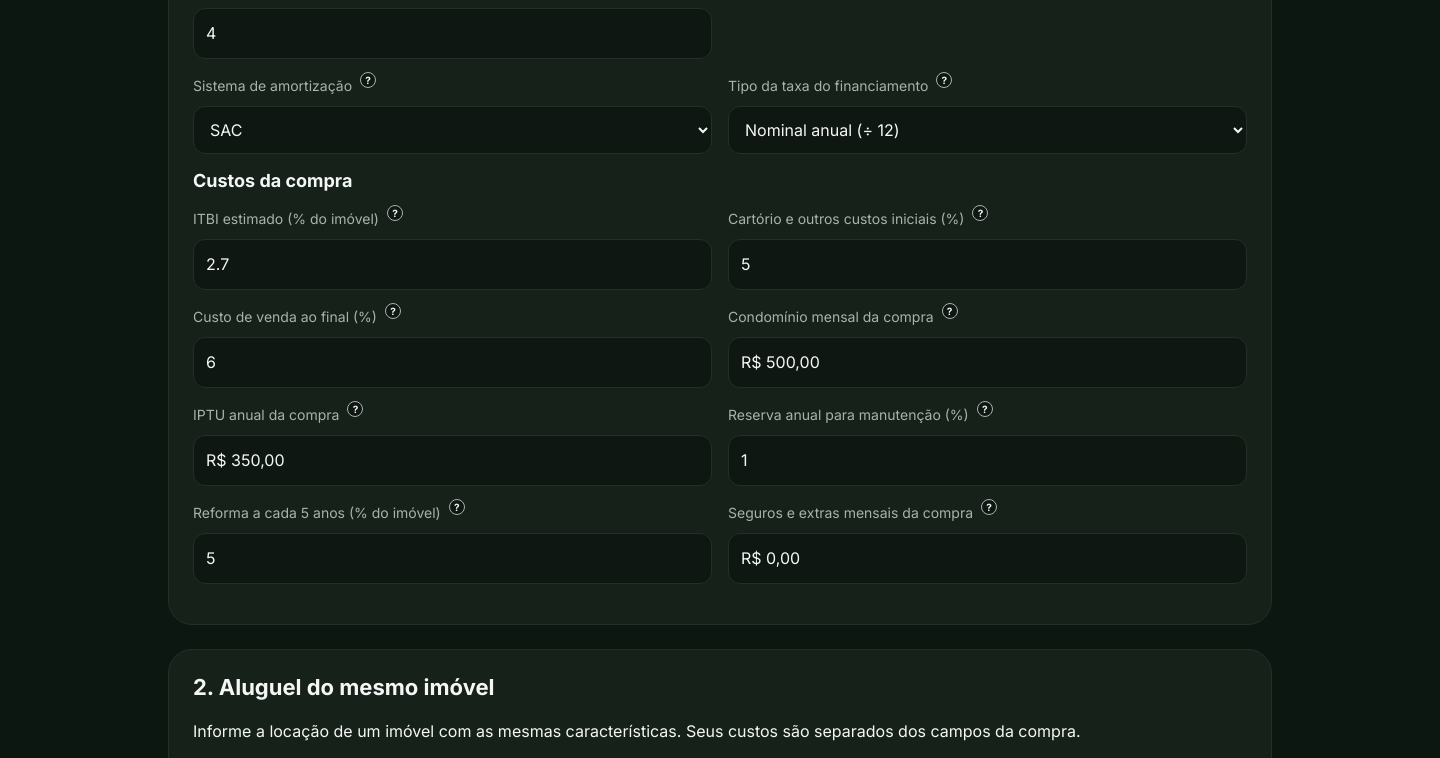
Test: BuyOrRent › keeps costs separated and changes rental IPTU responsibility
(page scrolled)
Check: the field labelled "IPTU anual da compra" is shown, box [193,434,712,486]
Check: the field labelled "Entrada" is not shown
Replace the text in the field labelled "Condomínio mensal da compra" with "90000" at x=988, y=362, box [728,336,1247,388]
(page scrolled)
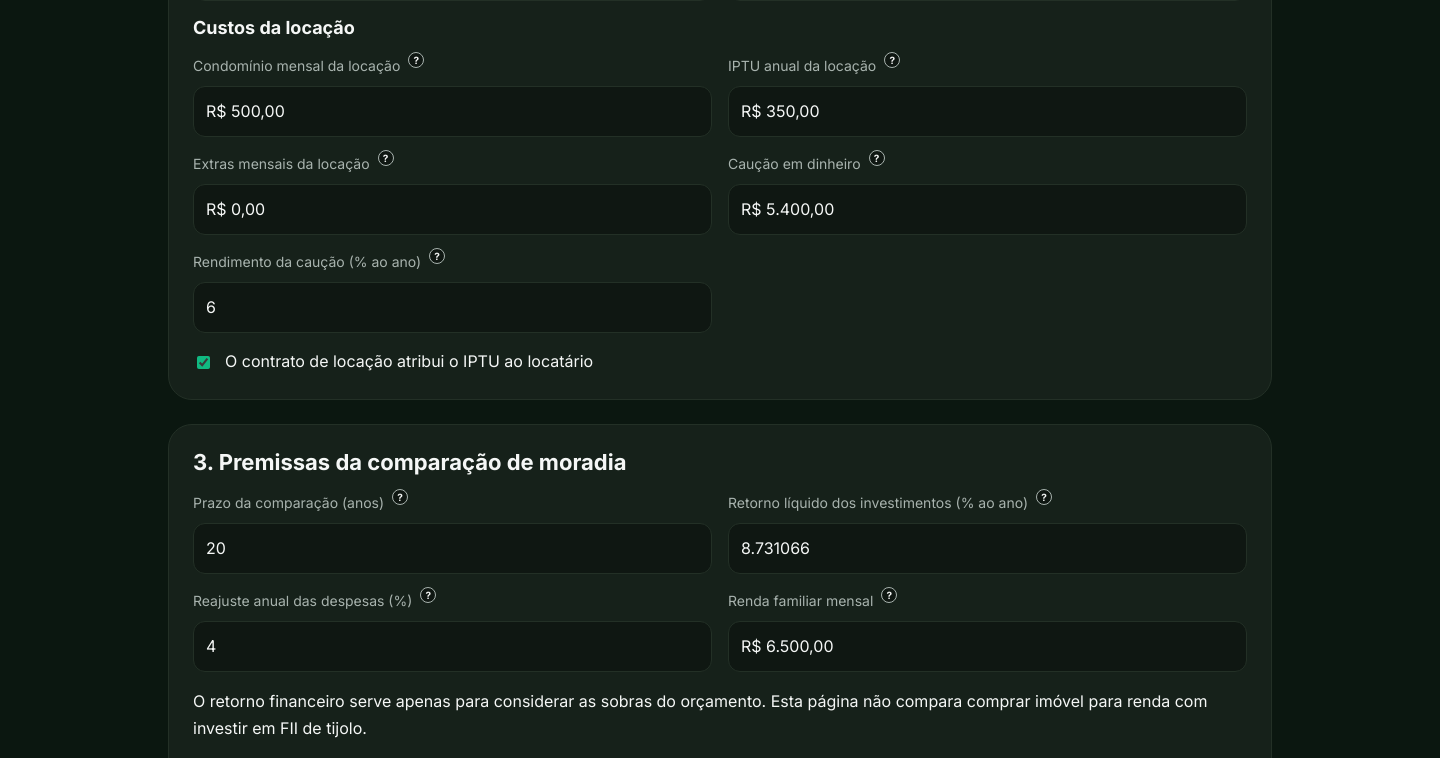
Click the checkbox labelled "O contrato de locação atribui o IPTU ao locatário".
click(204, 362)  # box [197,356,210,368]
(page scrolled)
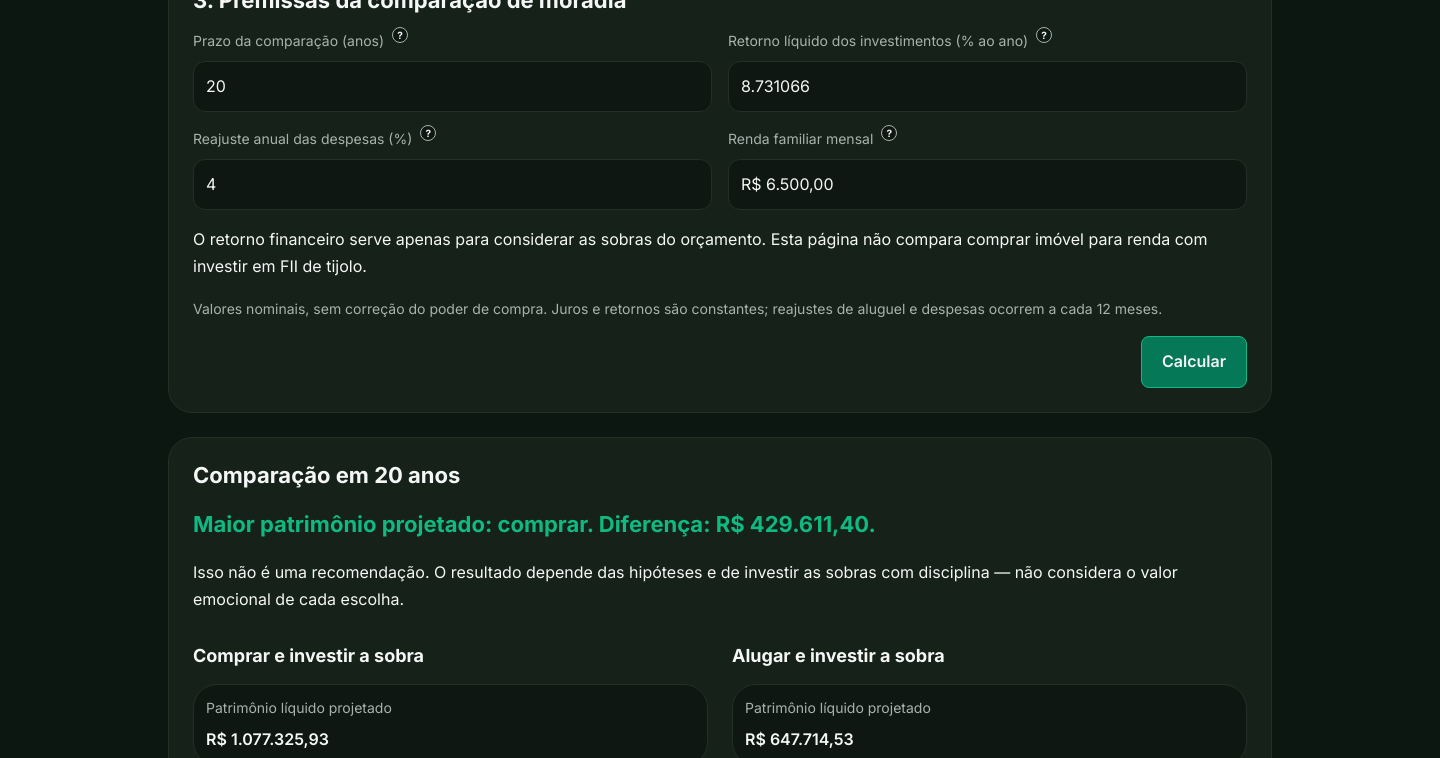
Click the button "Calcular".
click(1194, 362)  # box [1141,336,1247,388]
(page scrolled)
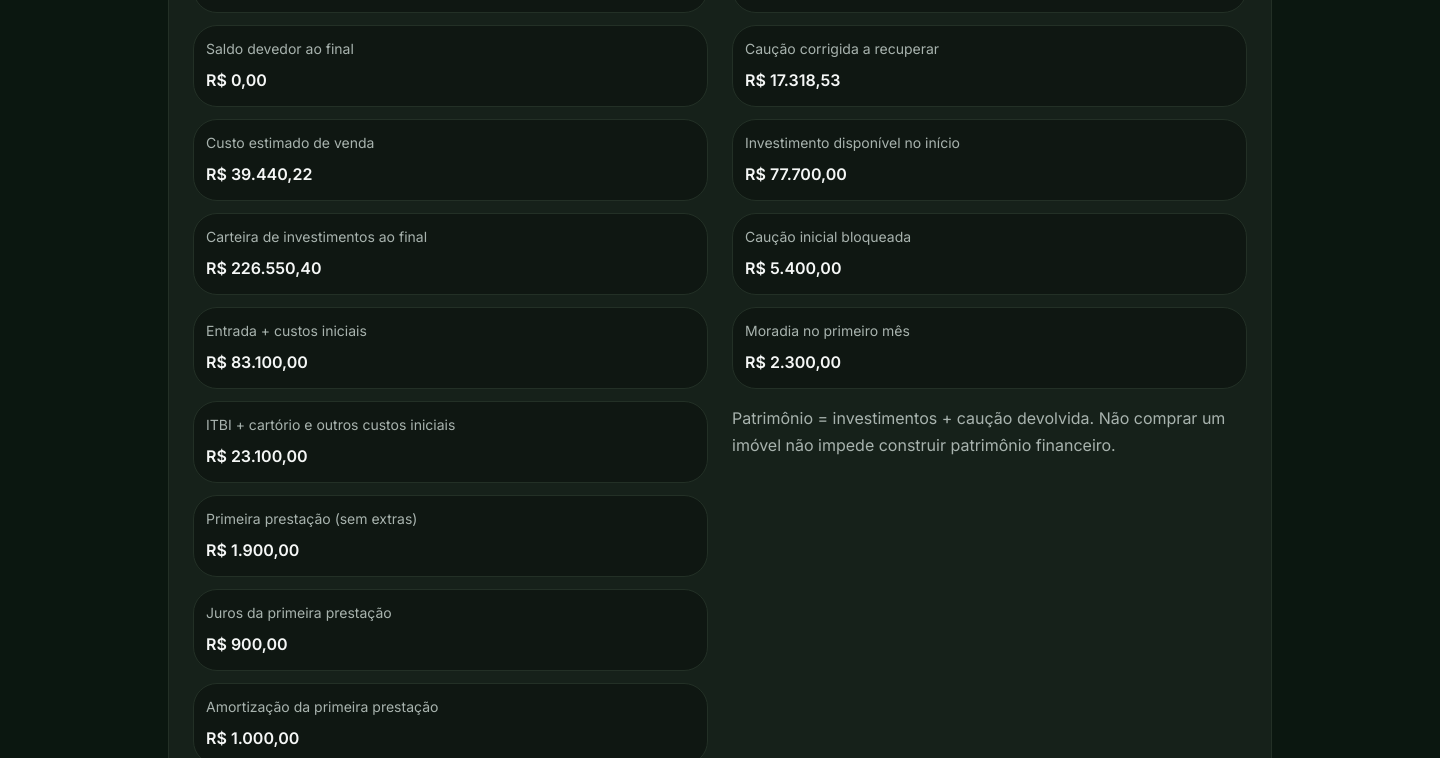
Check: the text "R$ 2.300,00" is shown, box [745,352,841,372]
